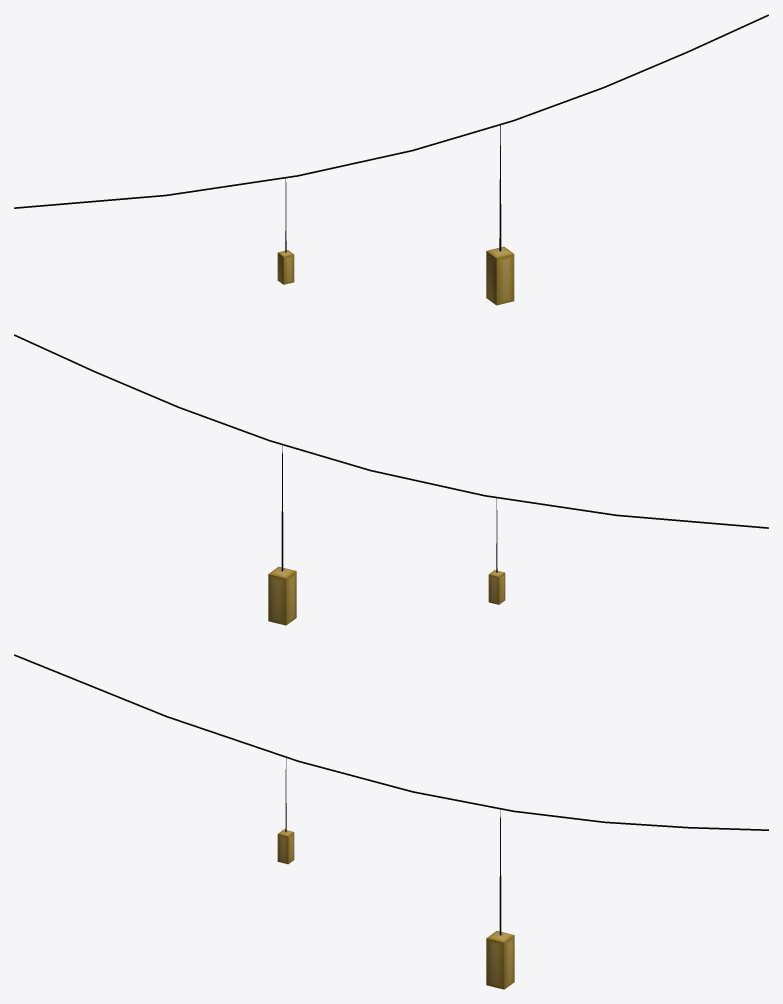
File: Garland_B_2_QuadLamps_Yellow.fbx
3 views of the same model, one above another, from view 1: azimuth 30°, elevation 25°; view 2: azimuth 150°, elevation 25°; view 3: azimuth 330°, elevation 25° (orthographic).
Parts seen in each view (by area): view 1: Garland_B_2_QuadLamps_Yellow; view 2: Garland_B_2_QuadLamps_Yellow; view 3: Garland_B_2_QuadLamps_Yellow.
Boxes of the visible parts, <box> form: Garland_B_2_QuadLamps_Yellow: <box>14,14,768,305</box>; Garland_B_2_QuadLamps_Yellow: <box>14,334,768,625</box>; Garland_B_2_QuadLamps_Yellow: <box>14,654,768,989</box>.
Bounding box in the file's own units: 676 × 189 × 18.51.
